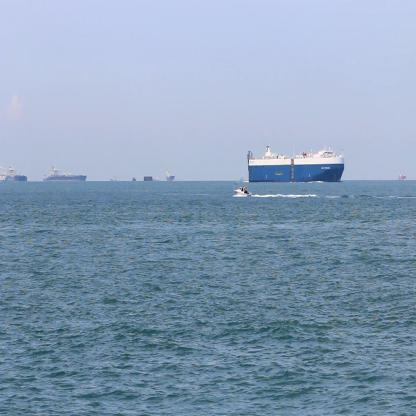Container Ship: (245, 142, 347, 185), (40, 162, 88, 184), (0, 165, 31, 184), (164, 168, 177, 184), (396, 168, 408, 185)
